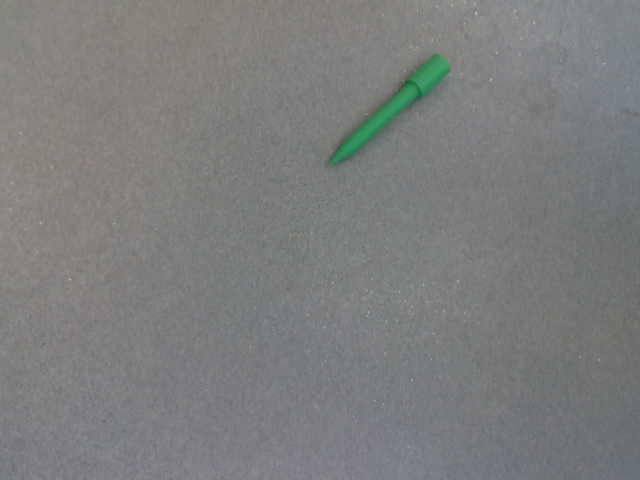Probe: (324, 46, 455, 175)
